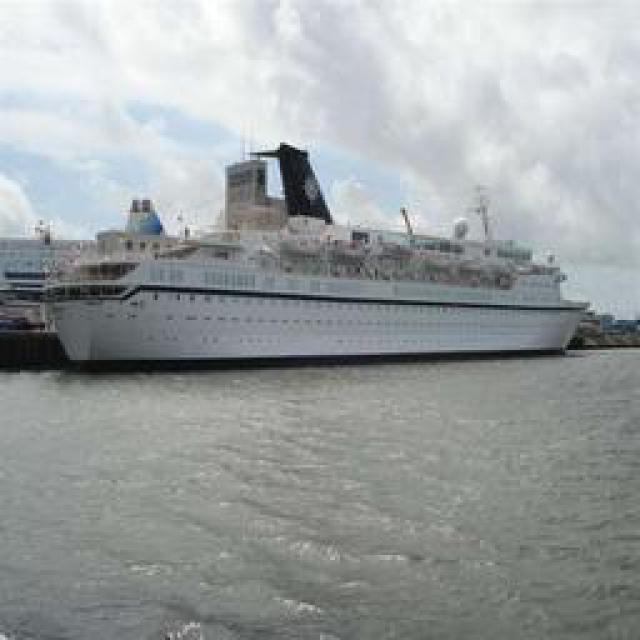Ship: (38, 164, 586, 364)
